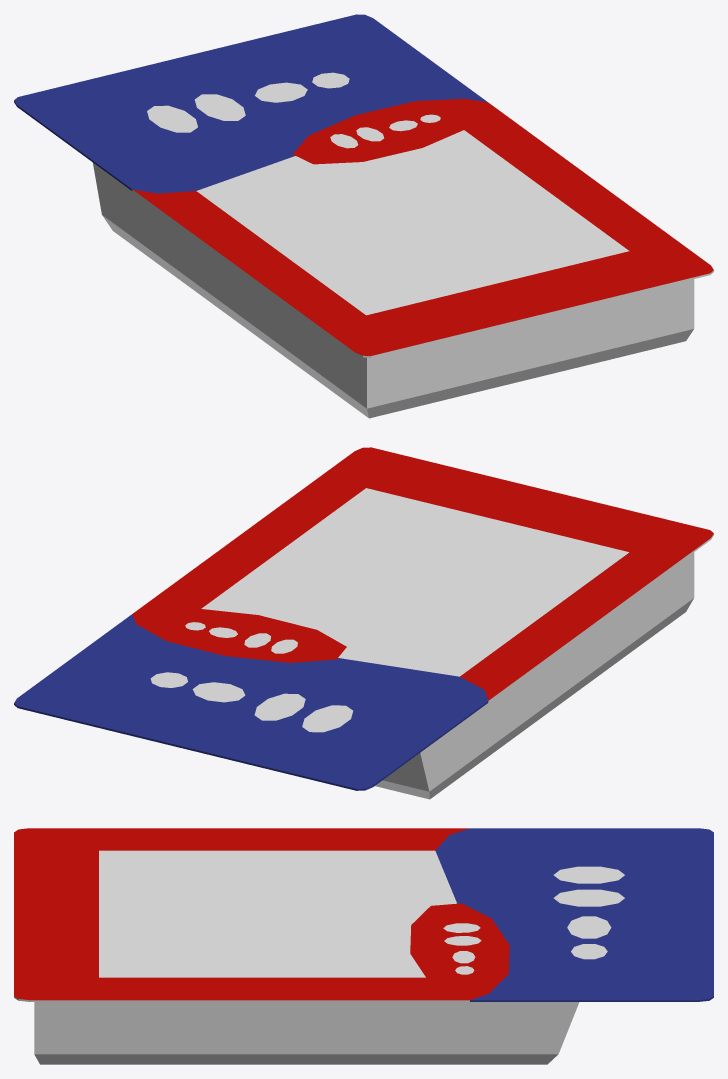
Rendered from Ma_Cheese_3.fbx.
3 views of the same model, one above another, from view 1: azimuth 30°, elevation 25°; view 2: azimuth 150°, elevation 25°; view 3: azimuth 270°, elevation 25° (orthographic).
Parts seen in each view (by area): view 1: Ma_Cheese_3; view 2: Ma_Cheese_3; view 3: Ma_Cheese_3.
Boxes of the visible parts, left/top/right/bottom form: Ma_Cheese_3: left=14, top=14, right=713, bottom=418; Ma_Cheese_3: left=14, top=447, right=713, bottom=799; Ma_Cheese_3: left=14, top=828, right=713, bottom=1064.
Bounding box in the file's own units: 87.42 × 150 × 19.23.
